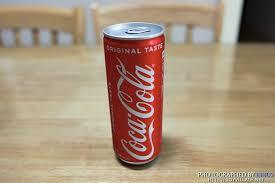can: (98, 19, 167, 170)
